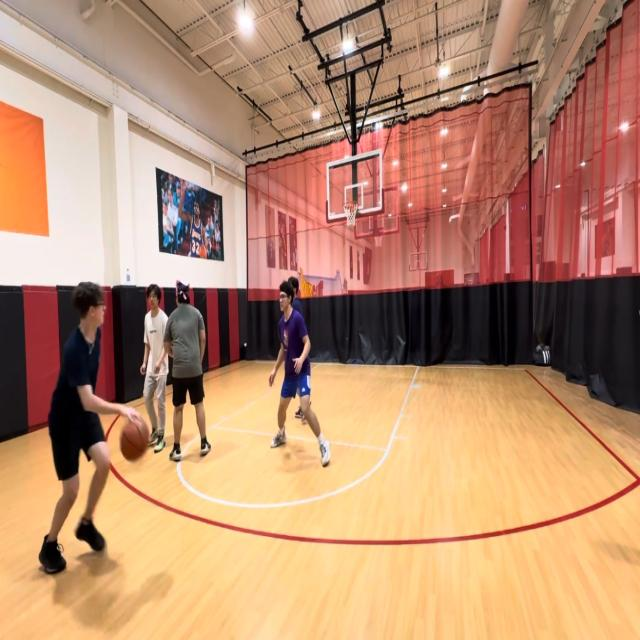Basketball: (132, 416, 148, 463)
Basketball Rim: (342, 200, 358, 228)
